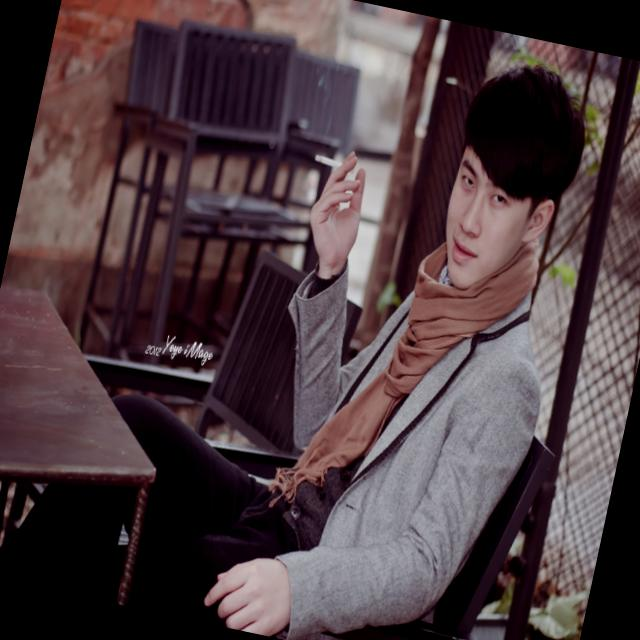smoke: (296, 128, 379, 198)
